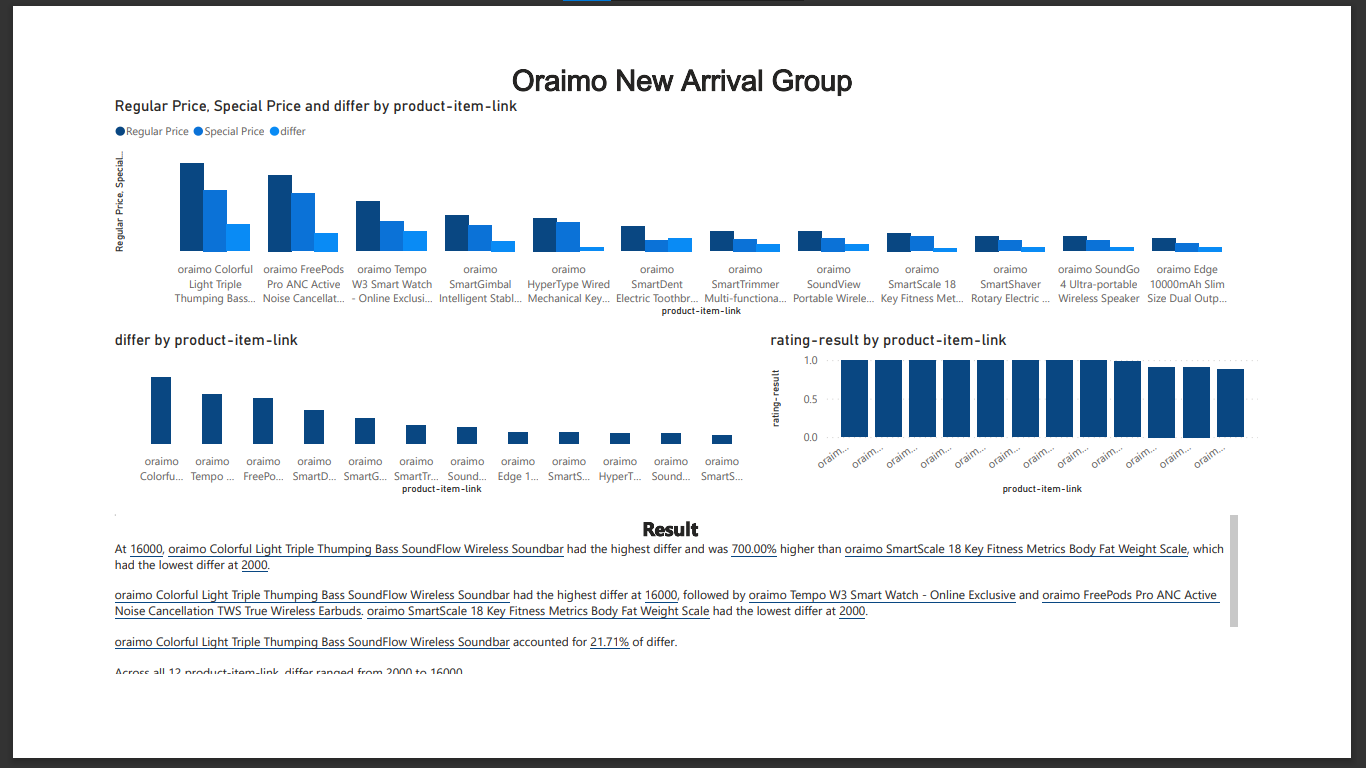

The dashboard page shown, as its layout file describes it:
{"tool":"powerbi","page":{"name":"Page 2","canvas":[1280,720],"ordinal":1},"visuals":[{"type":"textbox","box":[9.9,0,1269.5,64.8],"z":0},{"type":"clusteredColumnChart","fields":{"Category":["New arrival.product-item-link"],"Y":["Sum(New arrival.Regular Price)","Sum(New arrival.Special Price)","Sum(New arrival.differ)"]},"box":[9.9,45.1,1269.5,246.6],"z":1},{"type":"ribbonChart","fields":{"Category":["New arrival.product-item-link"],"Y":["Sum(New arrival.differ)"]},"box":[9.9,302.9,713,184.6],"z":2},{"type":"clusteredColumnChart","fields":{"Category":["New arrival.product-item-link"],"Y":["Sum(New arrival.rating-result)"]},"box":[732.7,302.9,546.7,184.6],"z":4},{"type":"textbox","box":[9.9,501.6,1248.4,184.6],"z":5}]}

Visuals, with their boxes in screenshot pixels (x1, y1, x2, y2), scaled from the page's 1280x720 canvas onto the 1366x768 screenshot:
textbox: (11,0,1365,69)
clusteredColumnChart - New arrival.product-item-link x Sum(New arrival.Regular Price): (11,48,1365,311)
ribbonChart - New arrival.product-item-link x Sum(New arrival.differ): (11,323,771,520)
clusteredColumnChart - New arrival.product-item-link x Sum(New arrival.rating-result): (782,323,1365,520)
textbox: (11,535,1343,732)
